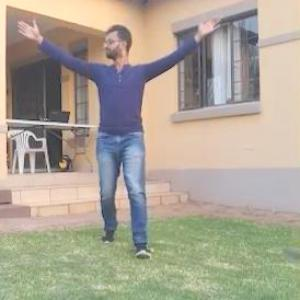takeoff: (21, 12, 222, 232)
